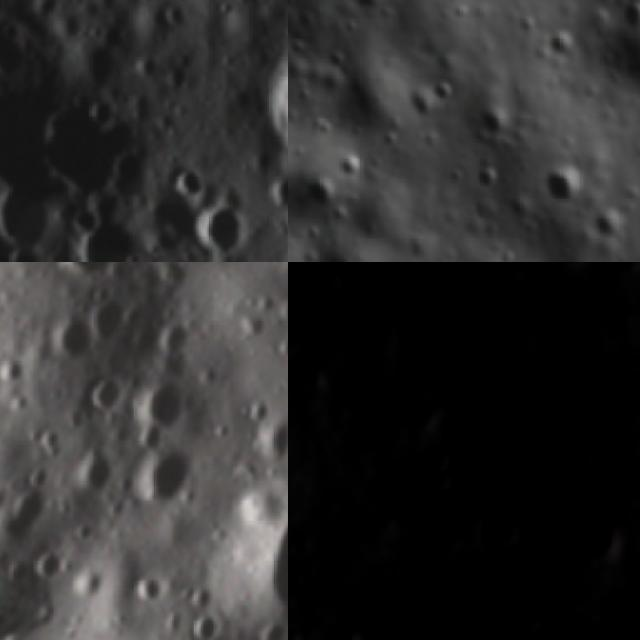crater: (236, 2, 288, 195), (236, 468, 288, 640), (118, 426, 209, 524), (0, 163, 81, 262), (181, 182, 273, 262), (59, 202, 160, 262), (35, 302, 110, 380), (128, 360, 204, 435), (0, 461, 61, 550), (76, 287, 148, 359), (64, 432, 134, 504), (68, 360, 136, 433), (570, 509, 630, 573), (158, 155, 219, 213), (41, 262, 141, 292), (26, 537, 79, 590), (0, 16, 36, 94), (542, 159, 589, 213), (477, 502, 523, 555), (128, 560, 176, 610), (181, 596, 232, 640), (442, 502, 486, 552), (398, 399, 444, 440), (476, 98, 520, 140), (588, 202, 631, 244), (303, 171, 342, 214), (263, 166, 288, 231), (309, 262, 346, 301), (414, 442, 452, 478), (481, 552, 516, 590), (426, 468, 460, 499), (430, 74, 460, 108), (325, 609, 357, 640), (336, 152, 366, 182), (475, 163, 504, 194), (616, 0, 640, 33), (196, 633, 239, 640)
